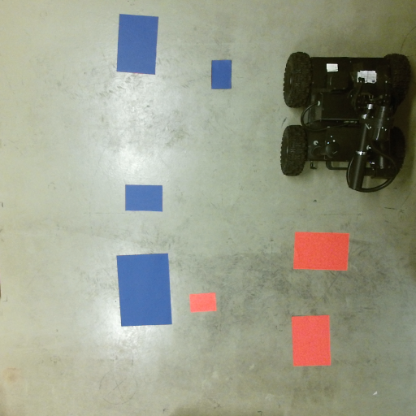Blue: (114, 255, 176, 326), (114, 11, 158, 75), (123, 184, 165, 211), (210, 60, 233, 88)
Jaguar: (281, 51, 409, 194)
Red: (288, 315, 334, 368), (292, 232, 351, 272), (188, 292, 217, 313)
